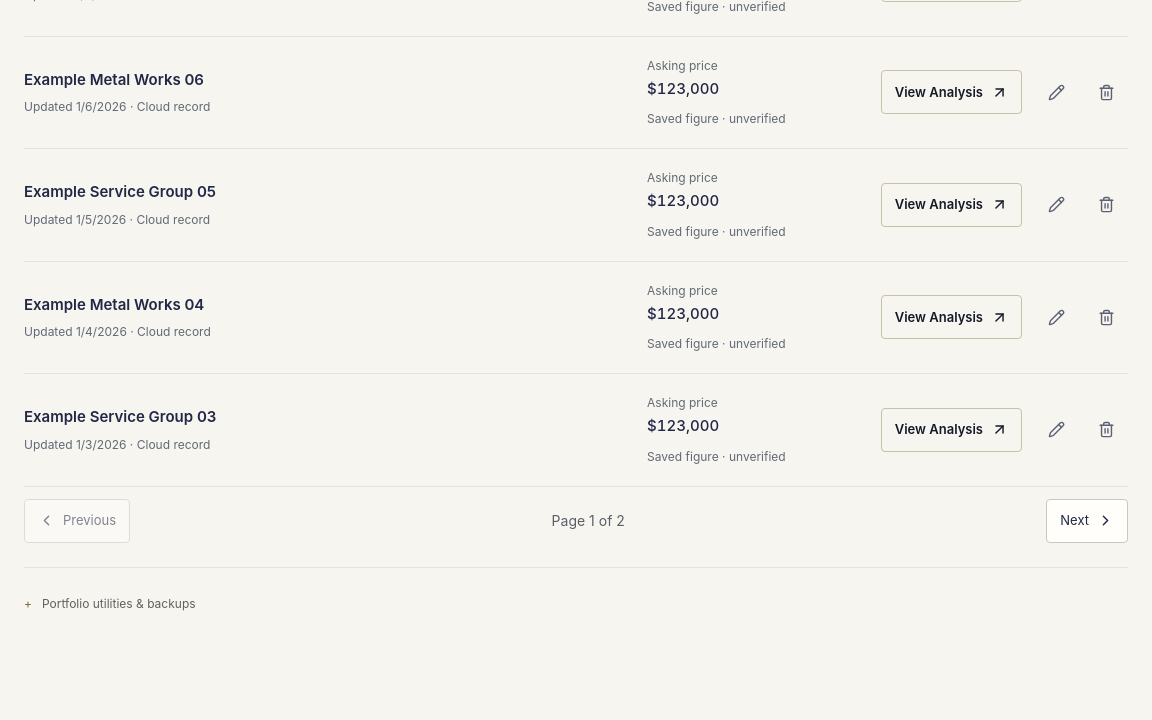
Test case: Acquisition Workspace with a synthetic cloud repository › keeps paginated search and secondary management actions accessible without writing on cancellation
Later steps or results of the test are not shown.
(page scrolled)
Step 1. Click the button "Next" → [1087, 521], box [1046,499,1128,543]
(page scrolled)
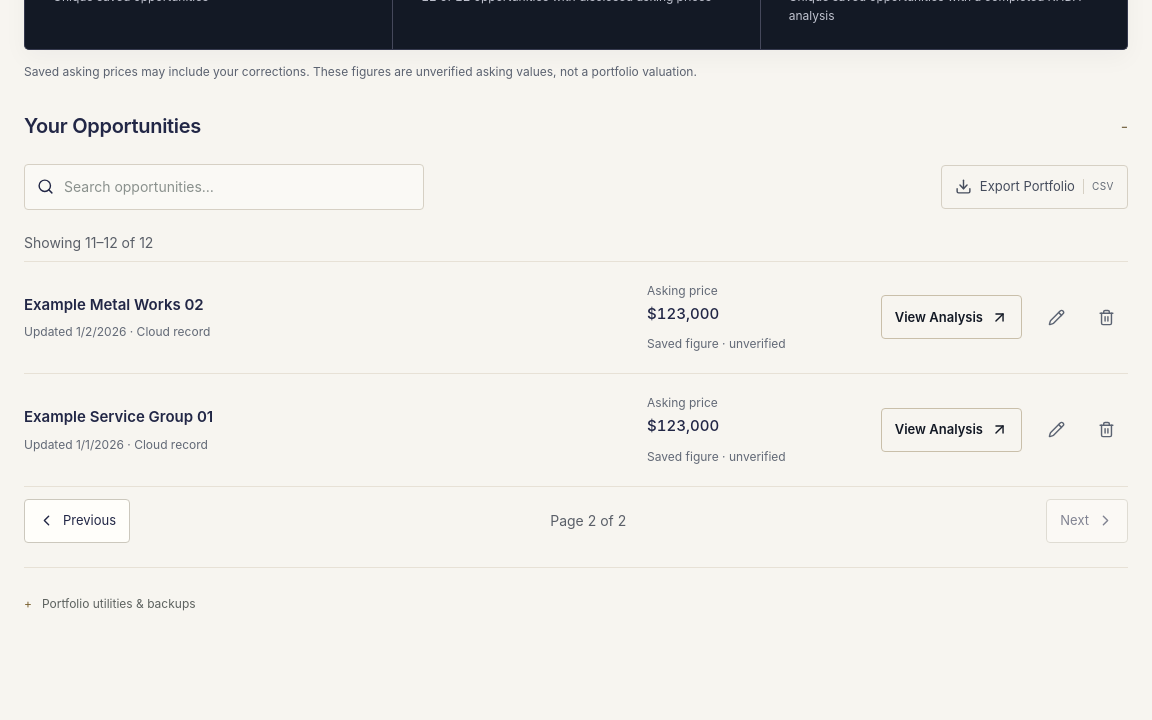
Expected: the number of buttons "View Analysis" is 2, [881,295,1022,339]; [881,408,1022,452]
Step 2. Type "Metal Works 02" into the search field → [240, 187], box [64,169,415,205]
(page scrolled)
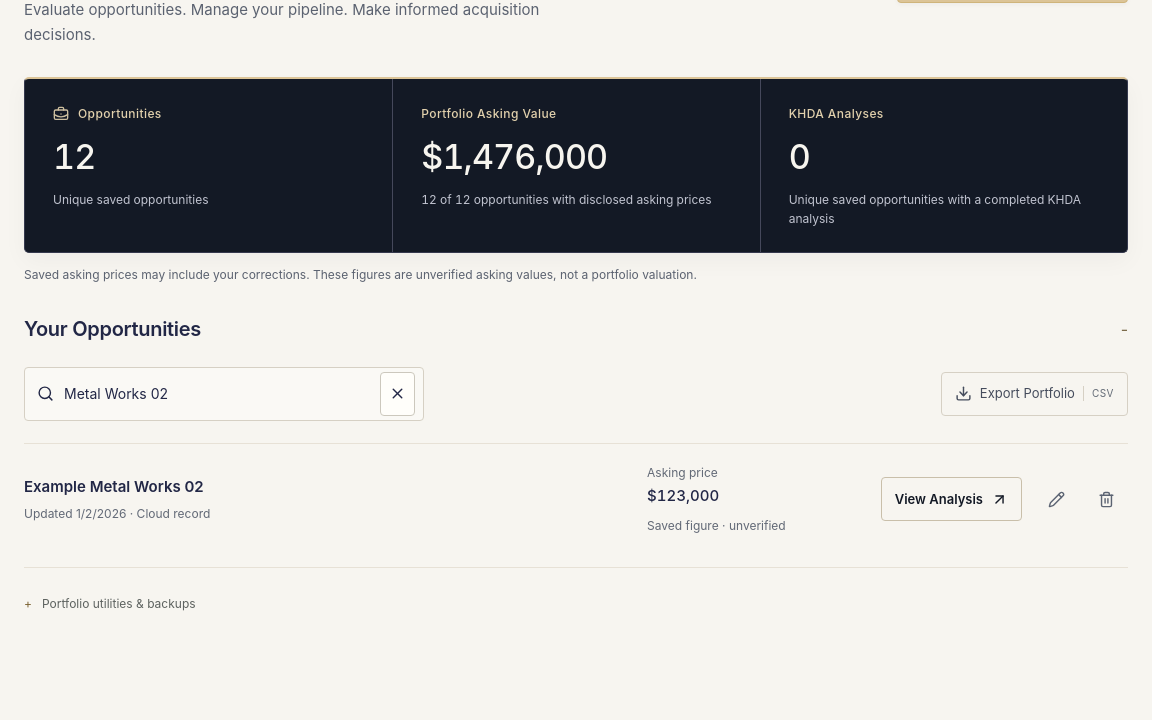
Now the number of buttons "View Analysis" is 1, box [881,477,1022,521]
Step 3. Click the button named "Rename Example Metal Works 02" → [1056, 499], box [1034,477,1078,521]
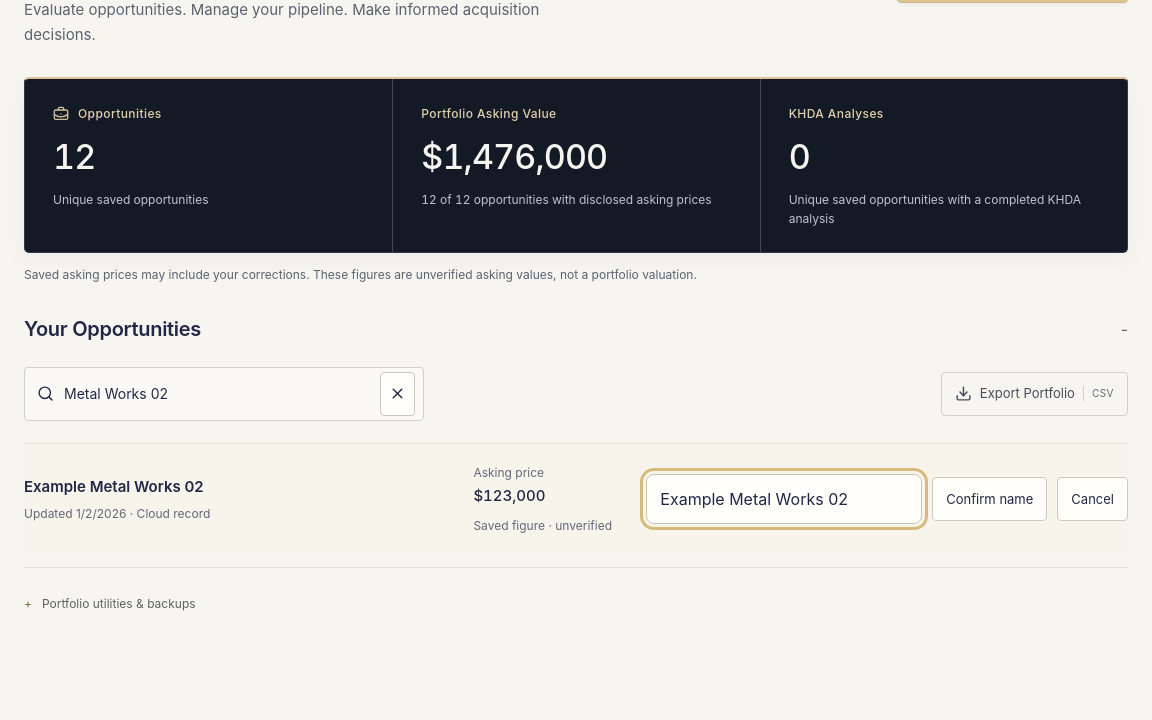
Now the field named "New acquisition name" is shown, box [646,474,922,524]
Step 4. Click the button "Cancel" → [1093, 499], box [1057,477,1128,521]
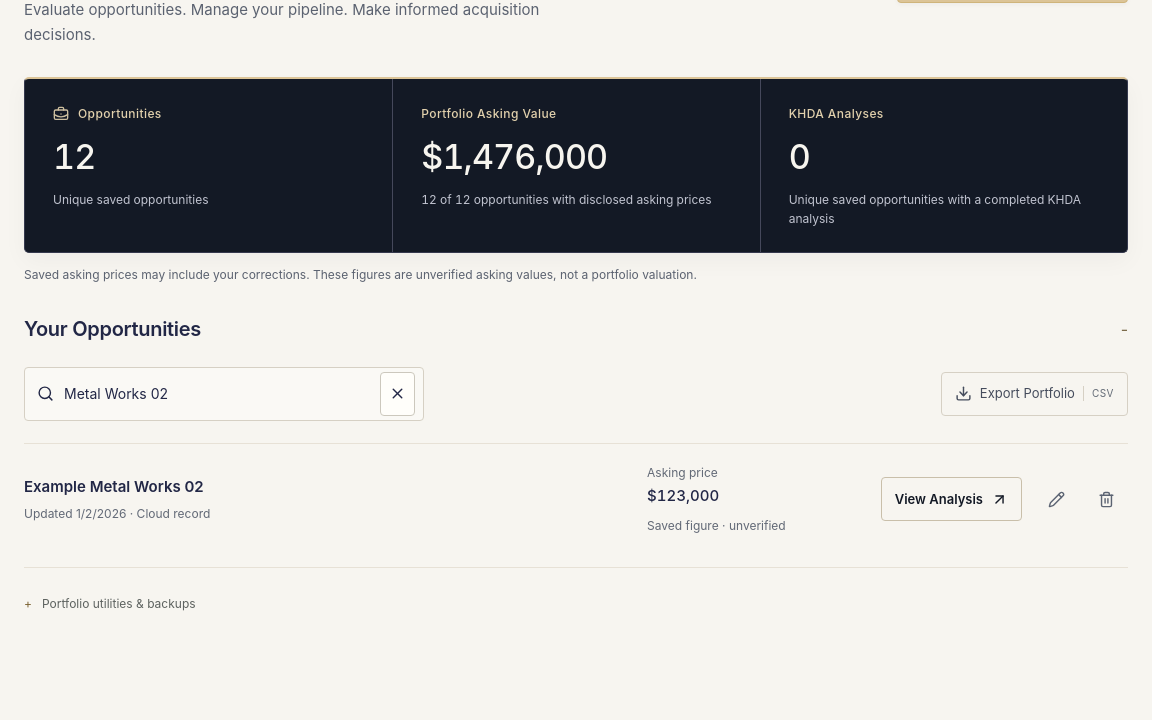
Step 5. Click the button named "Delete Example Metal Works 02" → [1106, 499], box [1084,477,1128,521]
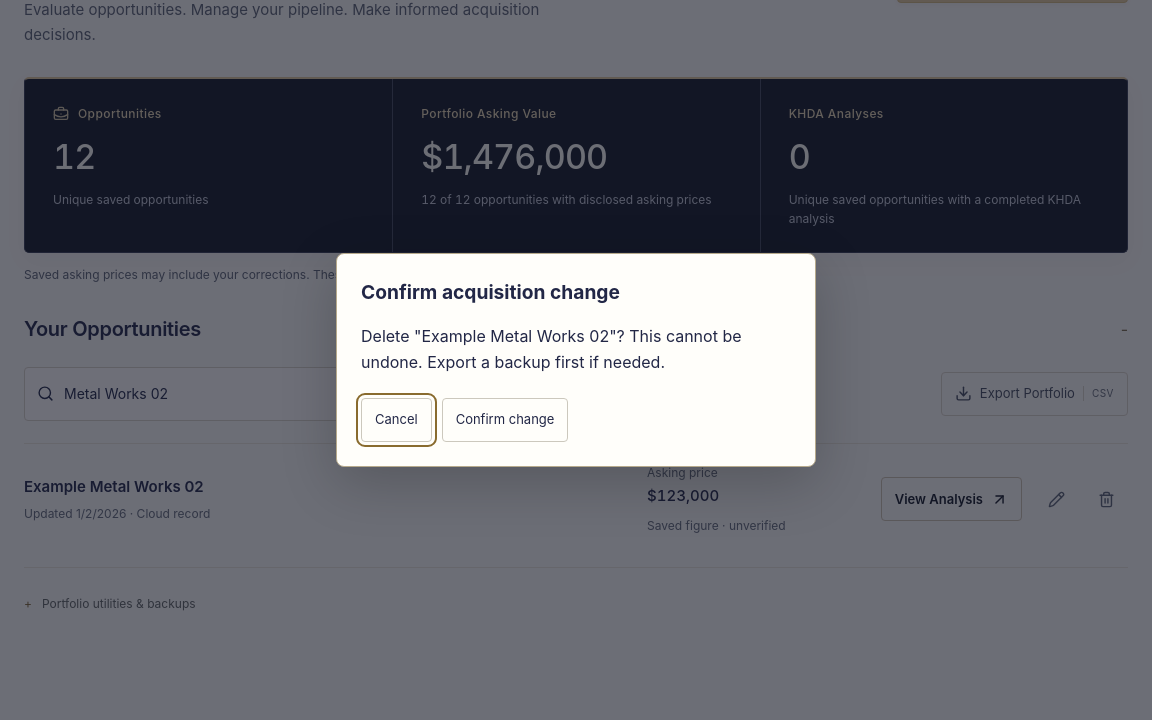
Now the dialog is shown, box [336,253,816,467]
